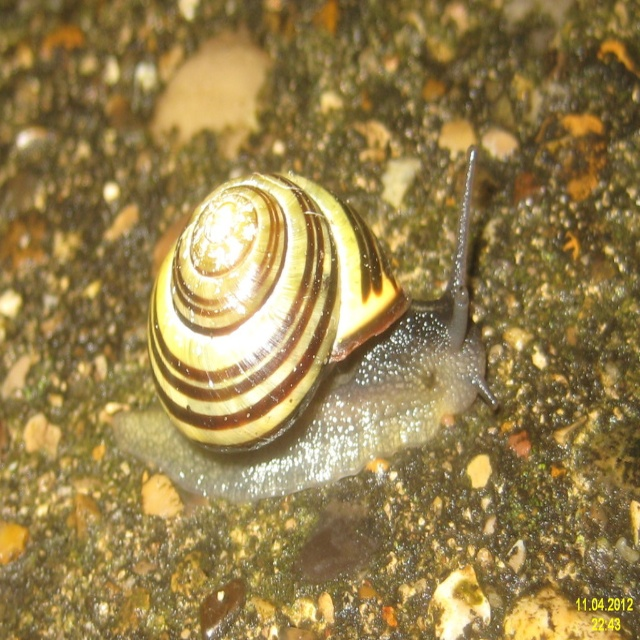Snail: (105, 141, 504, 512)
